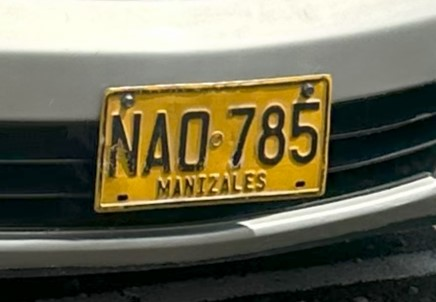number plate: (94, 74, 330, 211)
